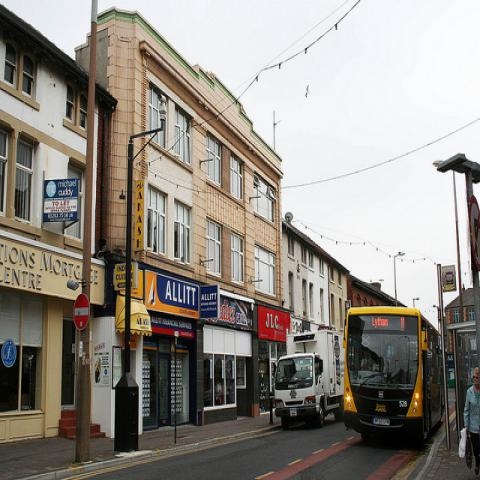bus: (341, 308, 447, 444)
truck: (273, 330, 345, 428)
